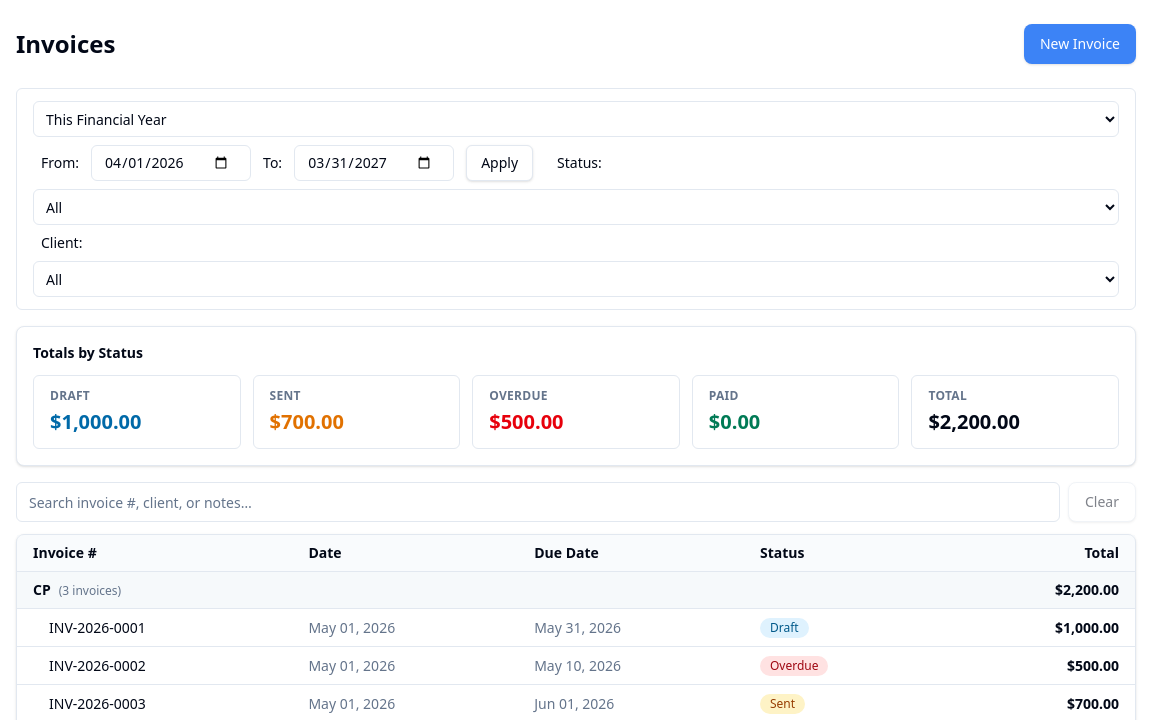
Invoices landing page › client-side filters by status=overdue without re-requesting
Check: the text "INV-2026-0002" is shown, box [17,646,292,684]
Check: the text "INV-2026-0001" is shown, box [17,608,292,646]
Select "Overdue" in the dropdown named "Status filter" at [576, 207], box [33,189,1119,225]
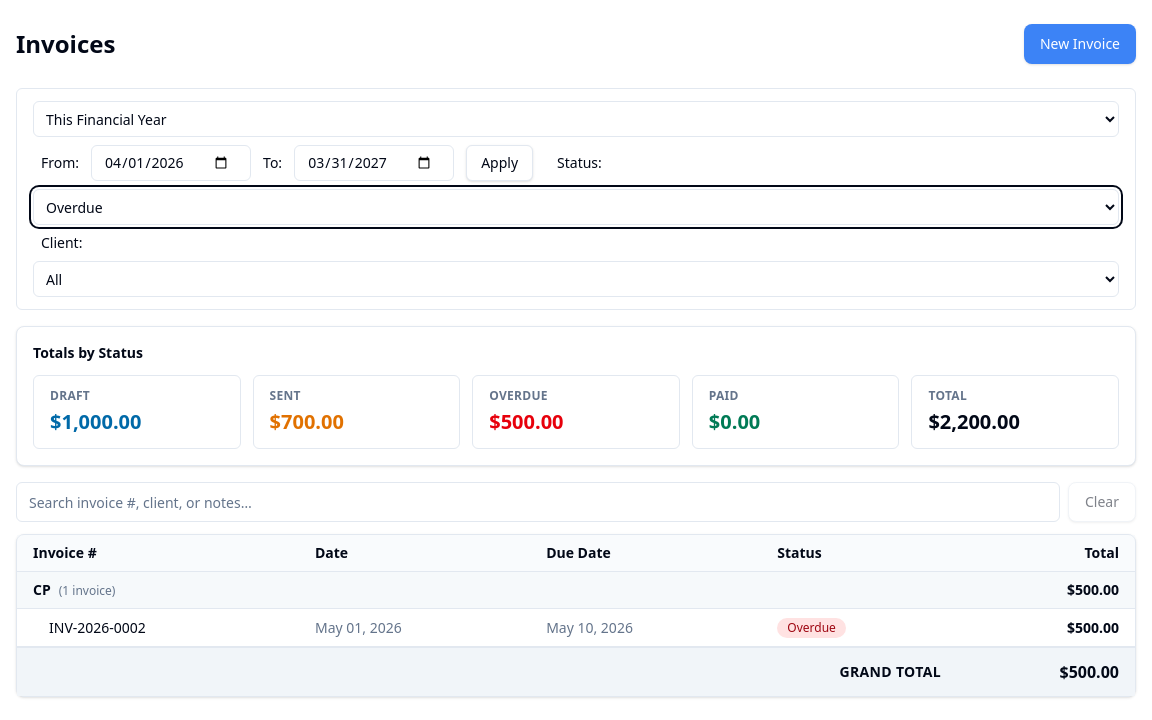
Check: the text "INV-2026-0002" is shown, box [17,608,299,647]
Check: the text "INV-2026-0001" is gone
